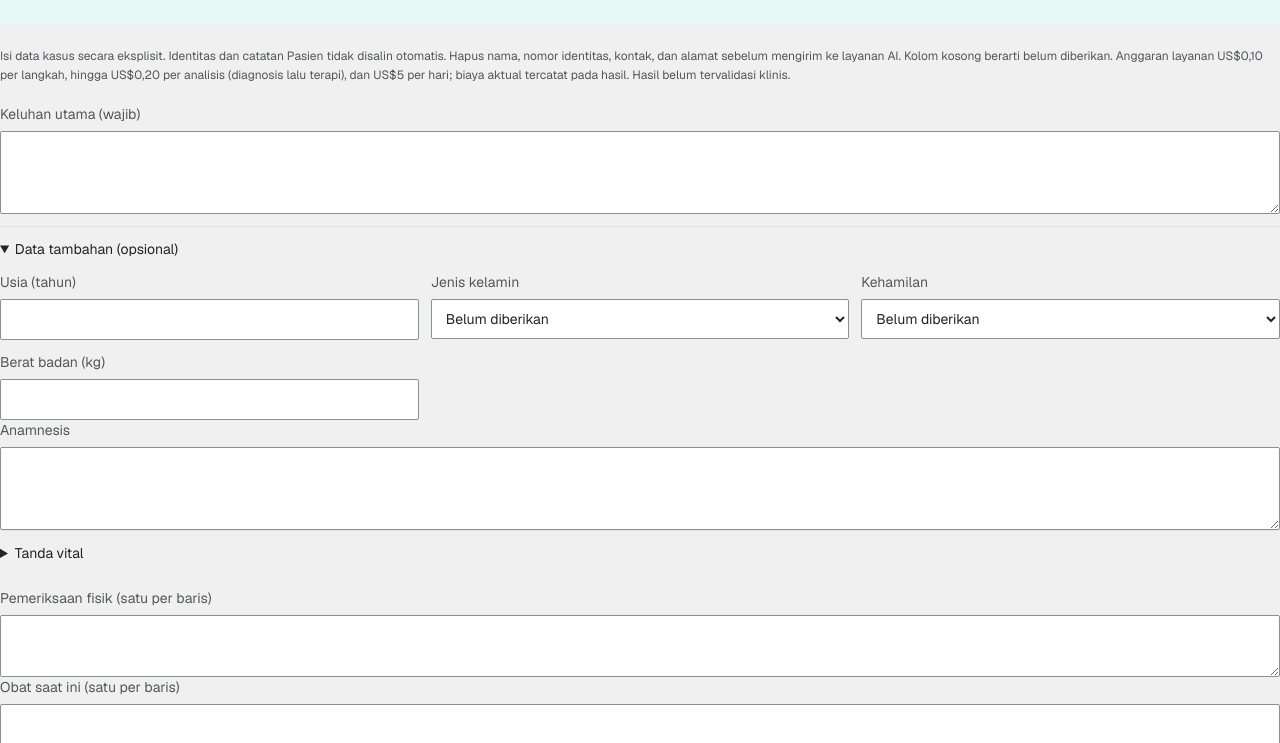
Test: Analisis kasus result after the case changes (Gaffer, 2026-11-22: mark it stale) › keeps the result, marks it kedaluwarsa, still saves it, and clears the mark on a new analysis
This screenshot has width=1280, height=743.
Type "Demam" into the text box named "Keluhan utama kasus" at (640, 173), box [0, 131, 1279, 214]
(page scrolled)
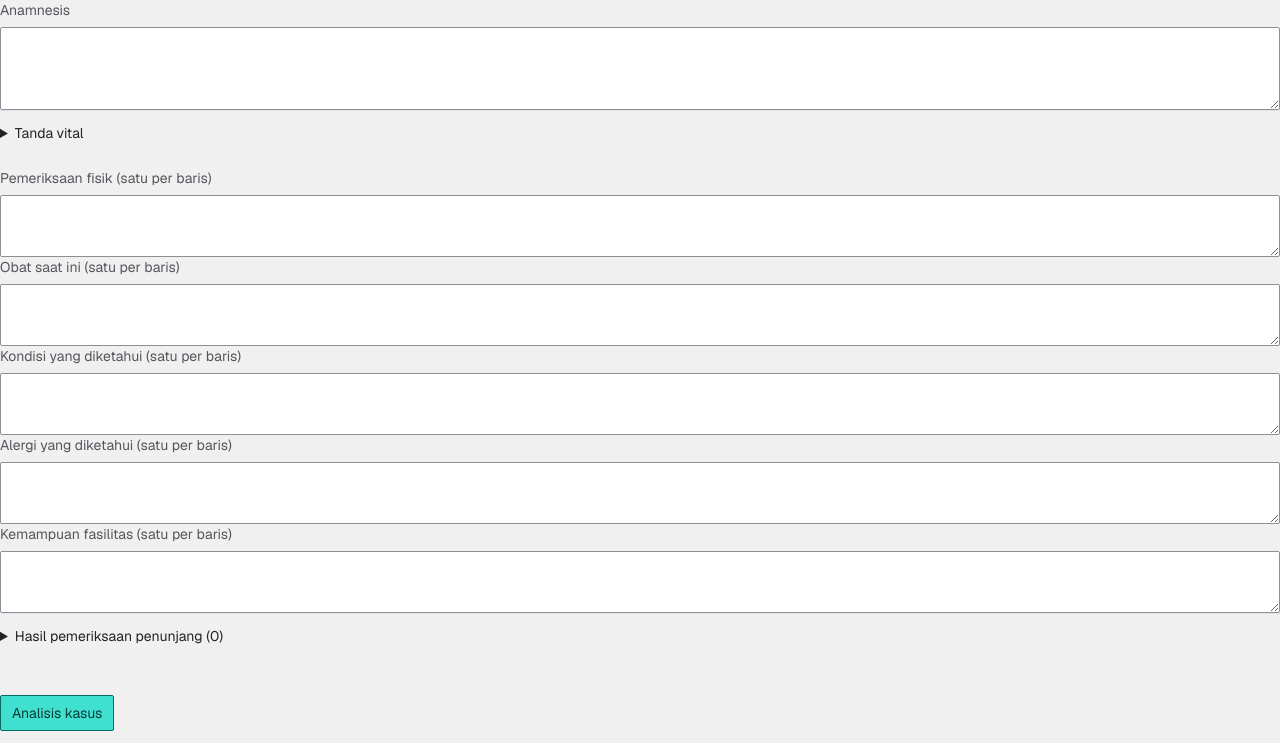
Check: the button "Analisis kasus" is enabled
Click the button "Analisis kasus" at (57, 713), box [0, 695, 114, 731]
(page scrolled)
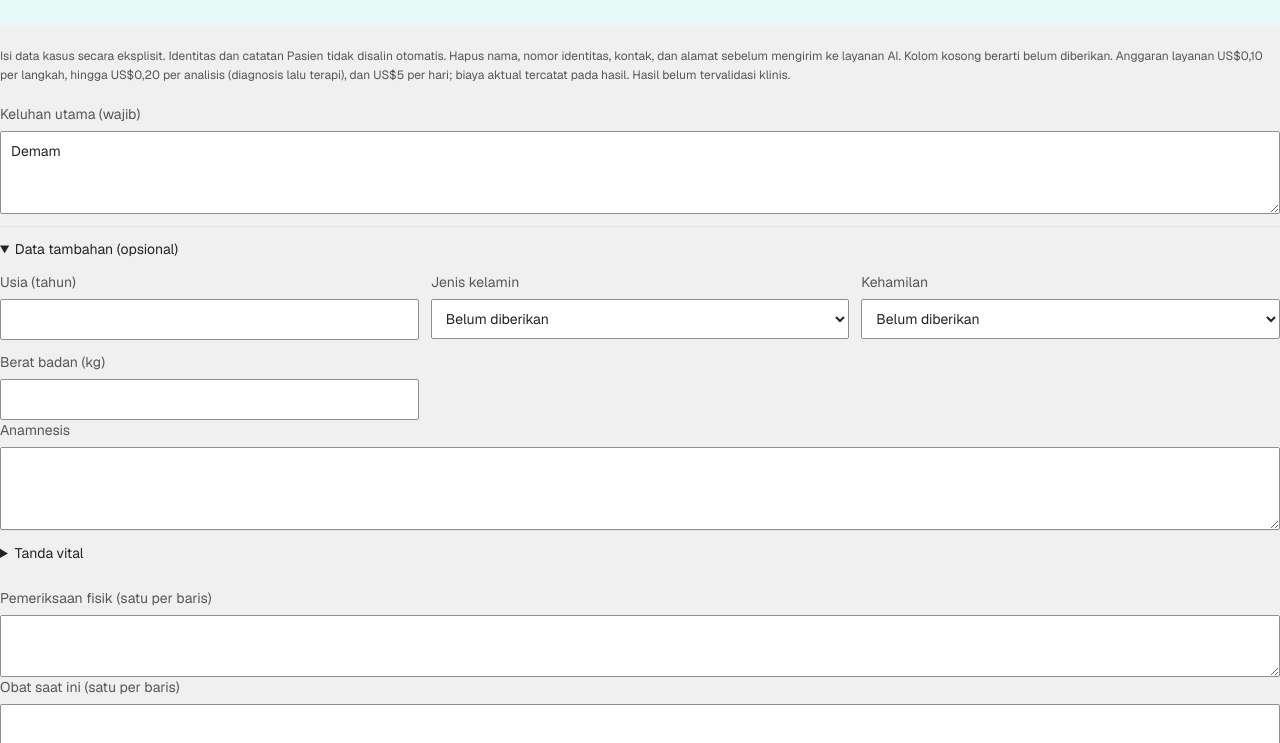
Check: the text "kedaluwarsa" is not shown
Type "40" into the number field named "Usia kasus" at (209, 320), box [0, 299, 419, 340]
(page scrolled)
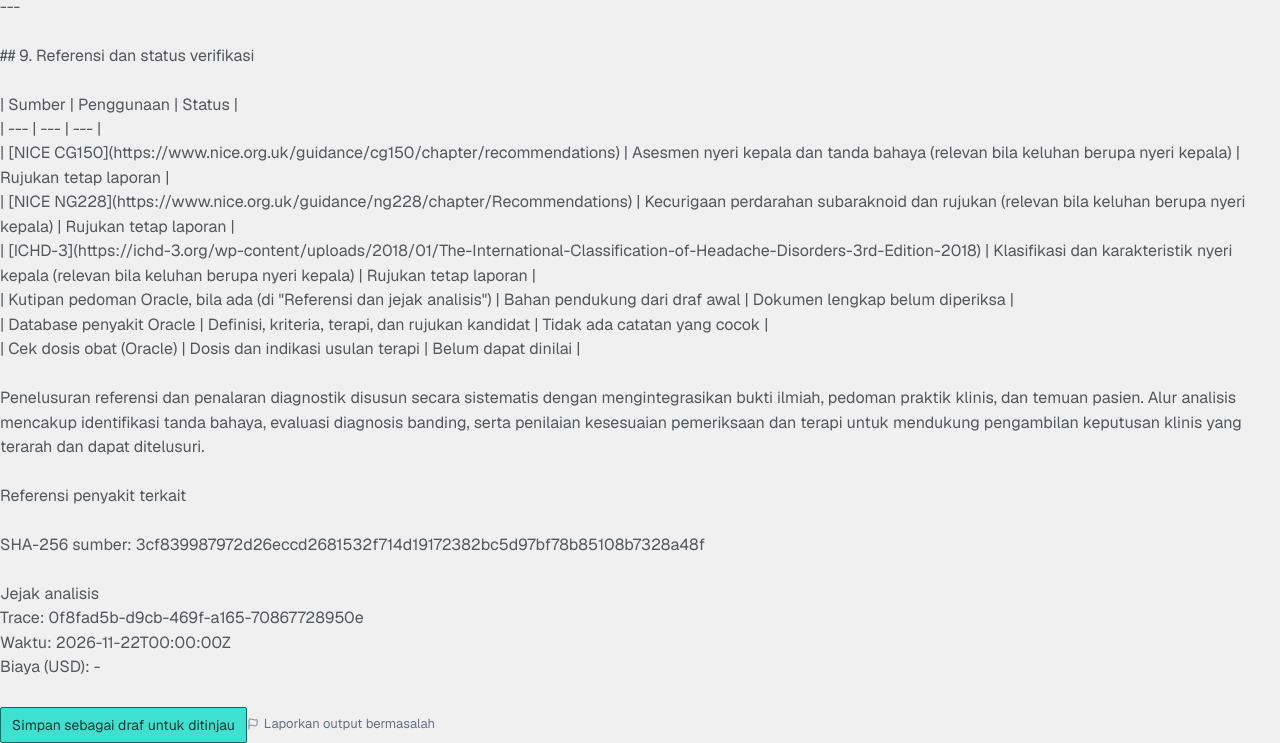
Click the button "Simpan sebagai draf untuk ditinjau" at (123, 725), box [0, 707, 247, 742]
(page scrolled)
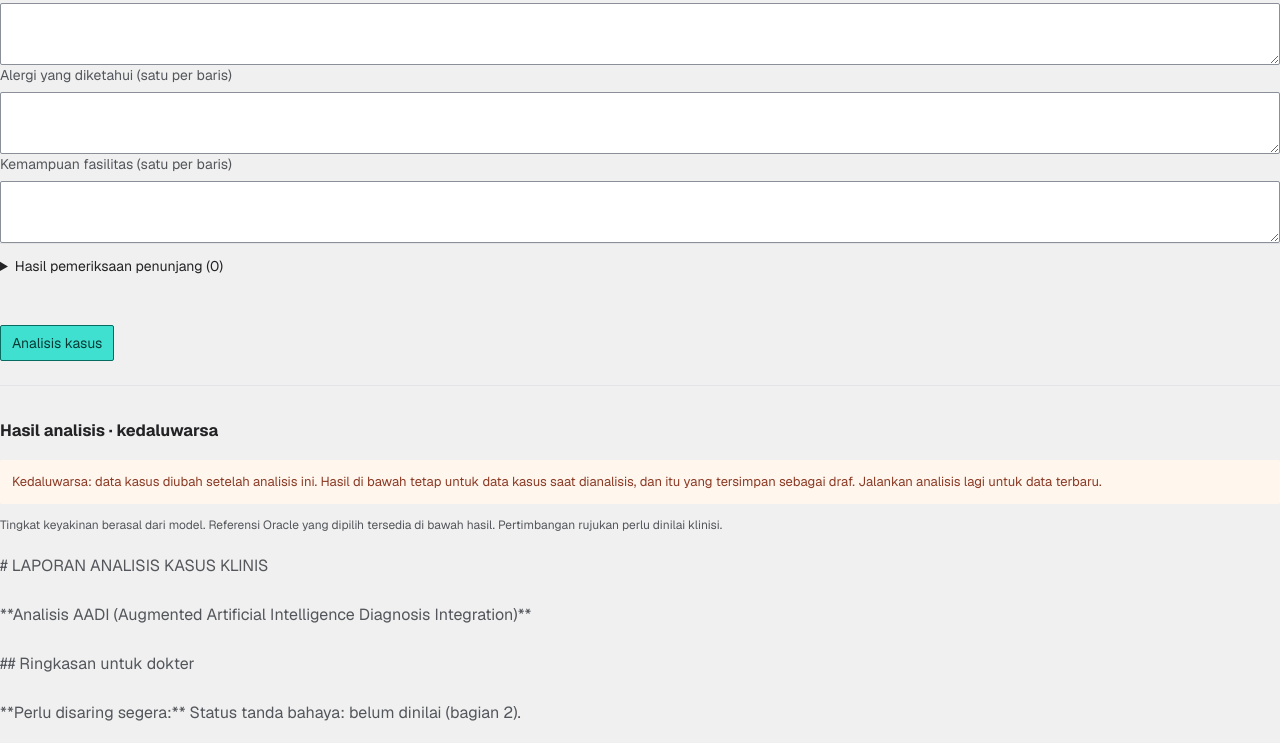
Click the button "Analisis kasus" at (57, 343), box [0, 325, 114, 361]
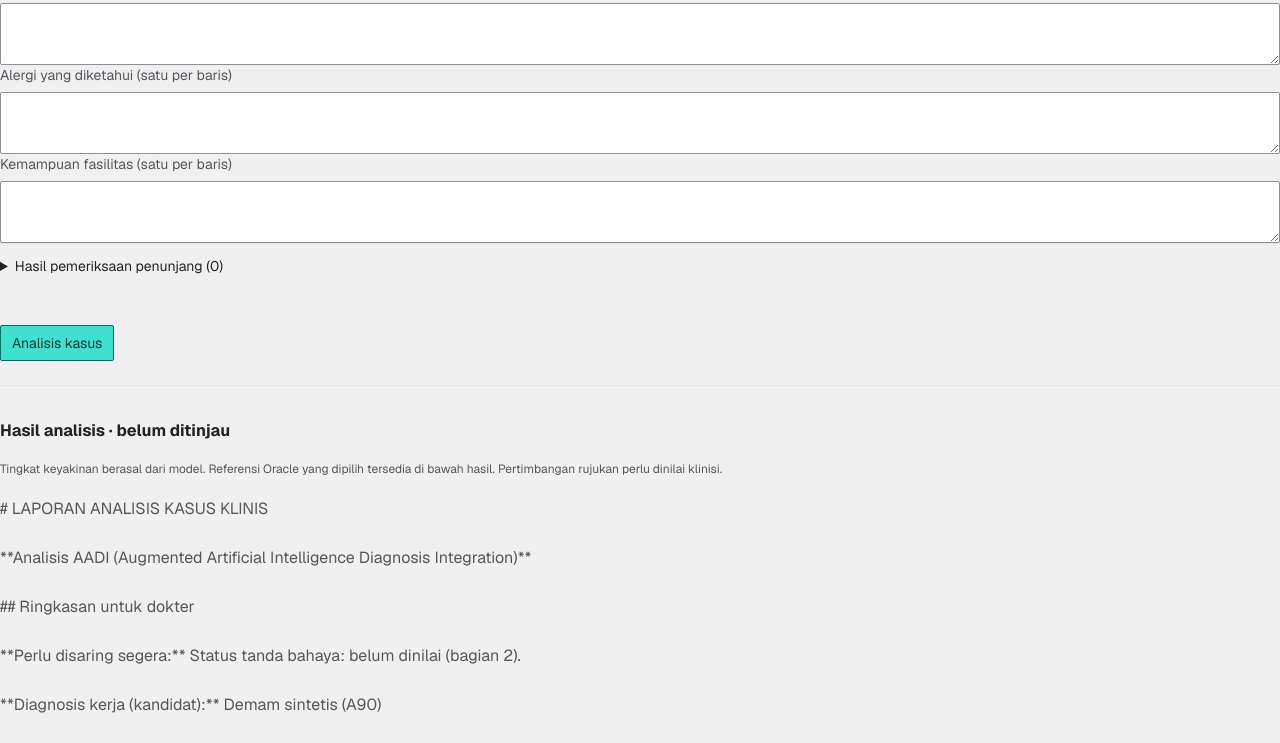
Check: the heading "Hasil analisis · belum ditinjau" is shown, box [0, 420, 230, 441]
Check: the text "Kedaluwarsa: data kasus diubah" is gone
